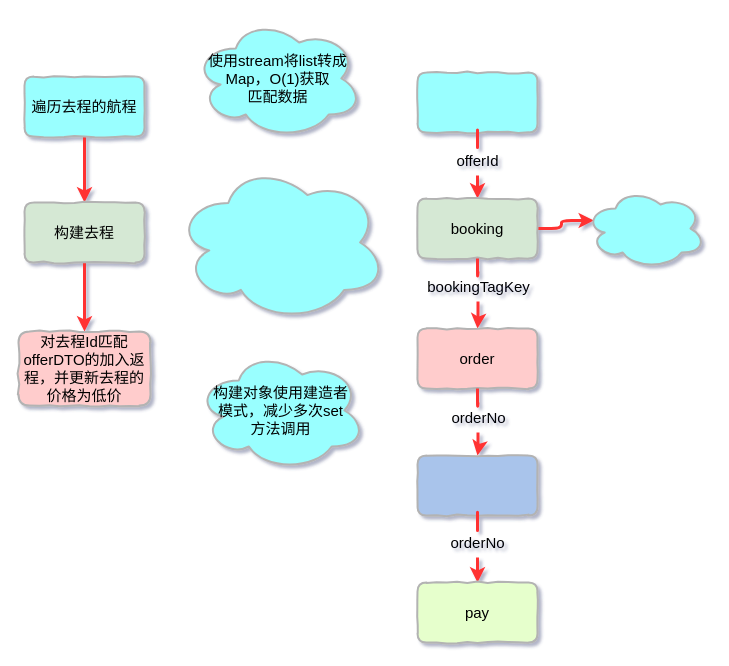
This 729x666 diagram has some shape labels left out. The centre of each missing label's shape, as x and y in pixels:
"pay validate" goes at (477,485).
"search" goes at (477,102).
"先ota取低价再booking" goes at (645,228).
"对于单程，航程Id 是唯一的，此航程 Id对应的报价就是 最终报价。对于往返，无需 使用去程对应的报价" goes at (280,242).
